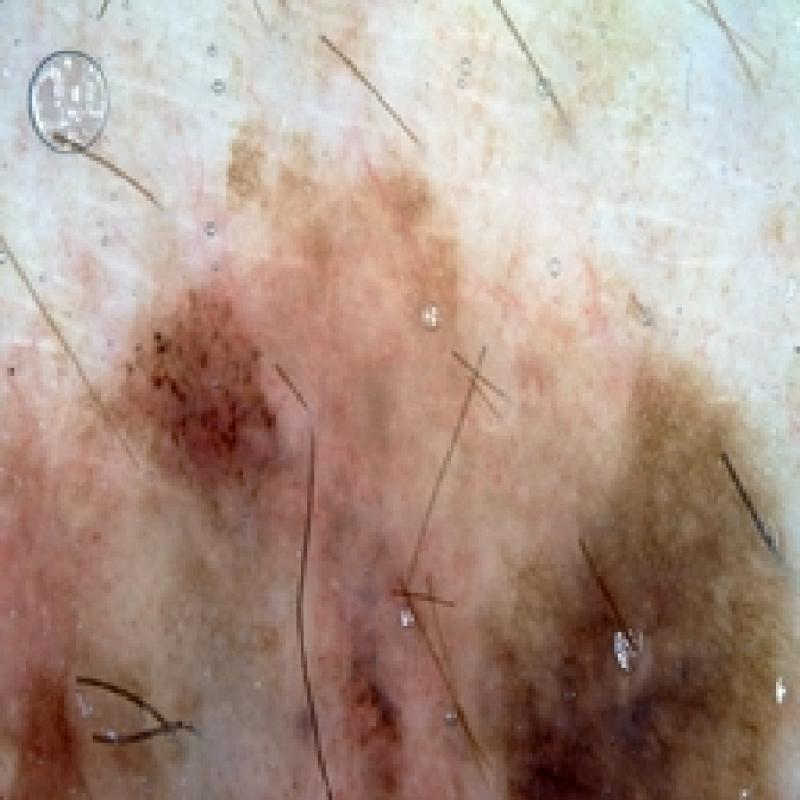malignant: (68, 146, 774, 786)
